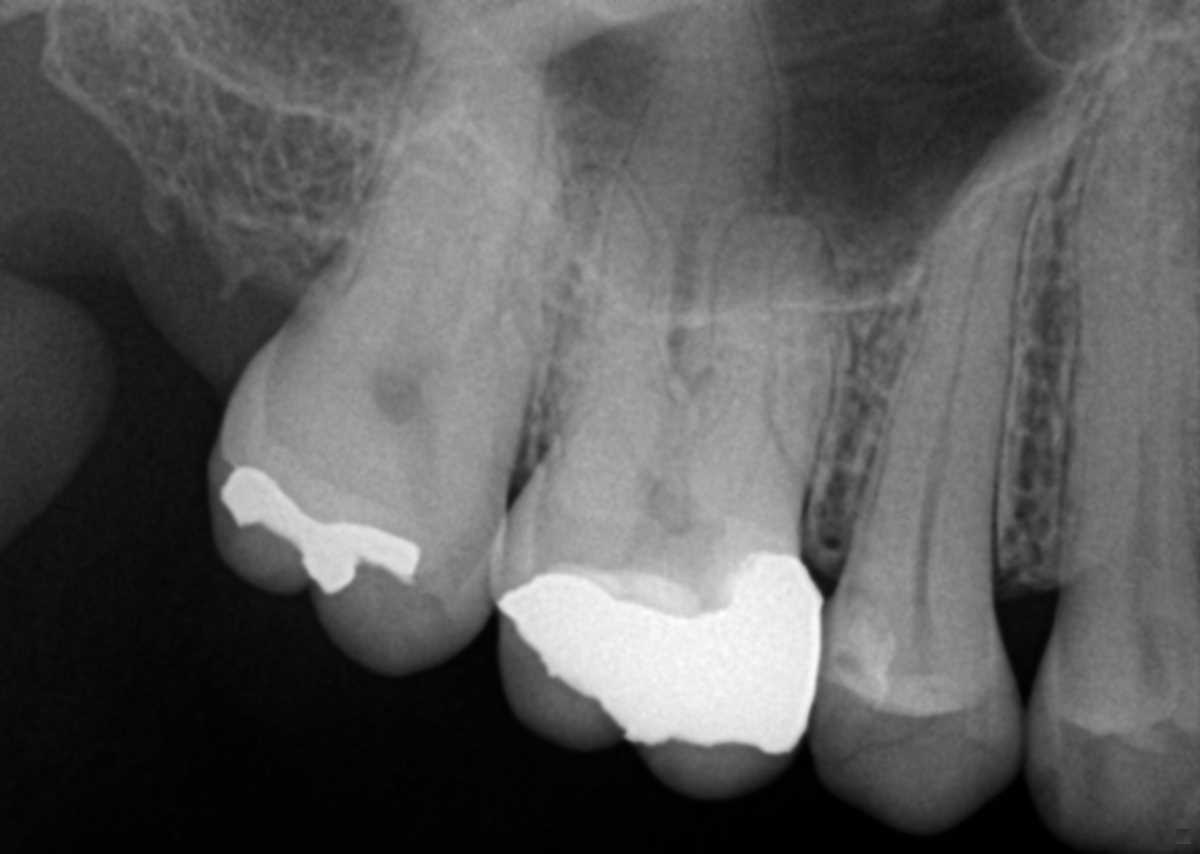Distal Root: (527, 167, 702, 476), (337, 48, 487, 323)
Main Canal: (915, 138, 1029, 575), (1129, 156, 1165, 561)
Main Root: (844, 82, 1094, 580), (1056, 54, 1200, 565)
Mesial Root: (683, 216, 838, 545), (421, 153, 562, 415)
Palatal Canal: (668, 21, 728, 353)
Palatal Root: (540, 0, 779, 549), (304, 0, 570, 384)
